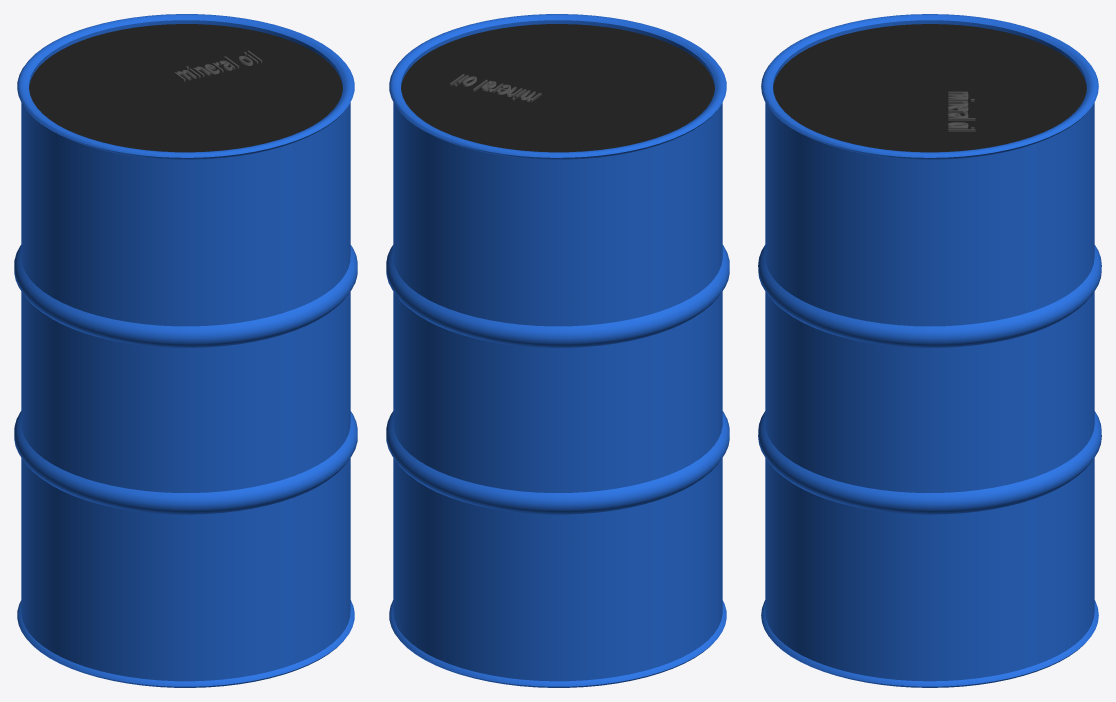
3 views of the same model, side by side, from view 1: azimuth 30°, elevation 25°; view 2: azimuth 150°, elevation 25°; view 3: azimuth 270°, elevation 25° (orthographic).
Parts seen in each view (by area): view 1: Cylinder, mineral_oil1; view 2: Cylinder, mineral_oil1; view 3: Cylinder, mineral_oil1.
Boxes of the visible parts, box(x1,y1,x2,y2) form: Cylinder: box(14, 14, 357, 687); mineral_oil1: box(174, 50, 262, 81); Cylinder: box(386, 14, 729, 687); mineral_oil1: box(449, 74, 541, 102); Cylinder: box(758, 14, 1101, 687); mineral_oil1: box(947, 91, 975, 131).
Size of the model in its own units: 0.5898 by 0.5898 by 1.01.
